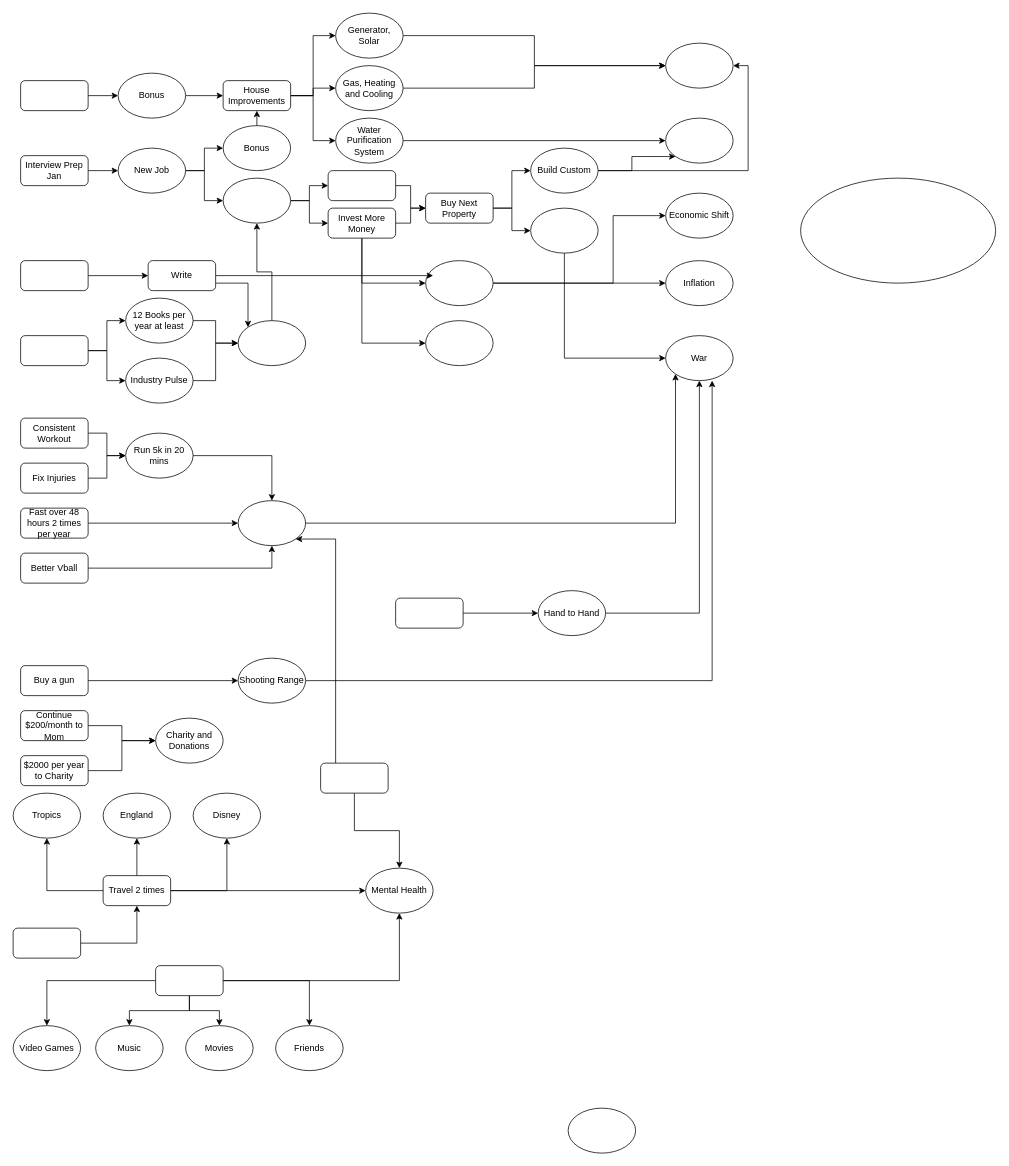
The diagram is 1009 pixels wide and 1166 high, and some of its shapes have lost their labels. The centre of each missing label's shape, as x and y in pixels:
"Abroad" goes at (564,230).
"Better Physical Health" goes at (271,523).
"Credit Card Churning" goes at (46,942).
"Crypto" goes at (459,283).
"Current Job" goes at (54,95).
"Dabble In Crypto" goes at (54,275).
"Doom Day Plan" goes at (898,230).
"Entertainment" goes at (189,980).
"Global Warming" goes at (699,65).
"Increased Salary" goes at (256,200).
"Martial Arts" goes at (429,612).
"Next Role (CTO related)" goes at (271,343).
"Read More" goes at (54,350).
"Save More Money" goes at (361,185).
"Start a Family" goes at (601,1130).
"Stock" goes at (459,343).
"Water Shortage" goes at (699,140).
"Yoga" goes at (354,777).
